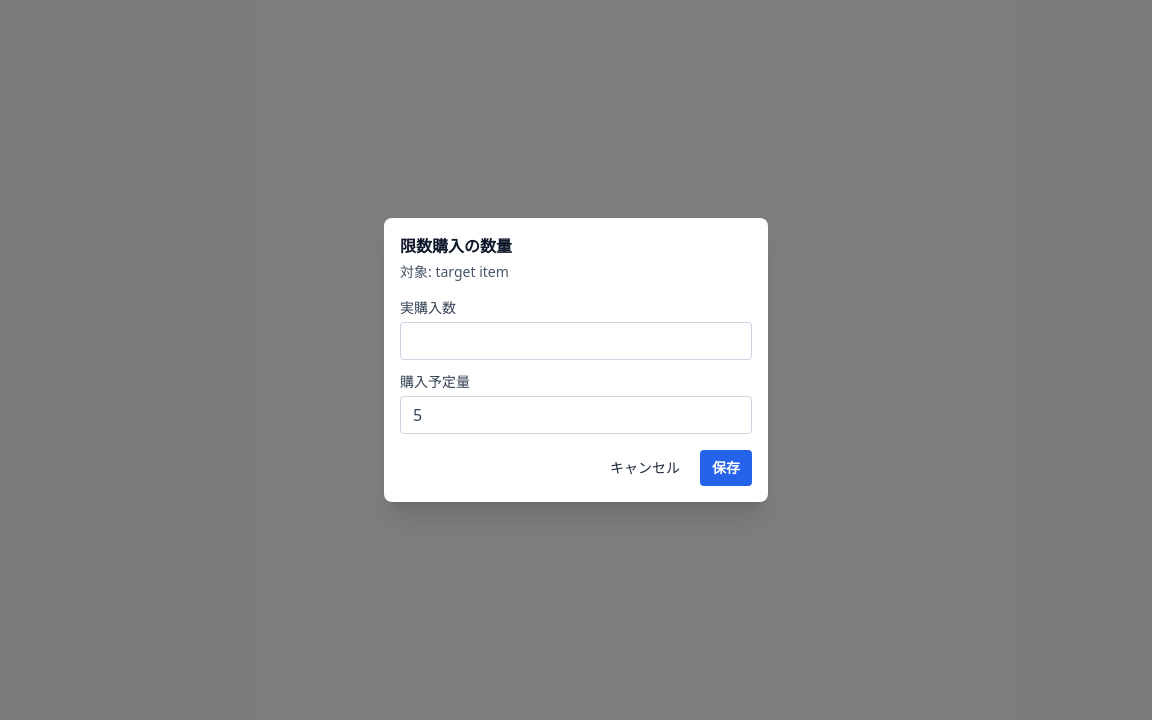
Test: LimitedPurchaseDialog › prioritizes actual quantity errors when both fields are empty
Clear the field labelled "実購入数" at coordinates (576, 341), box x1=400 y1=322 x2=752 y2=360
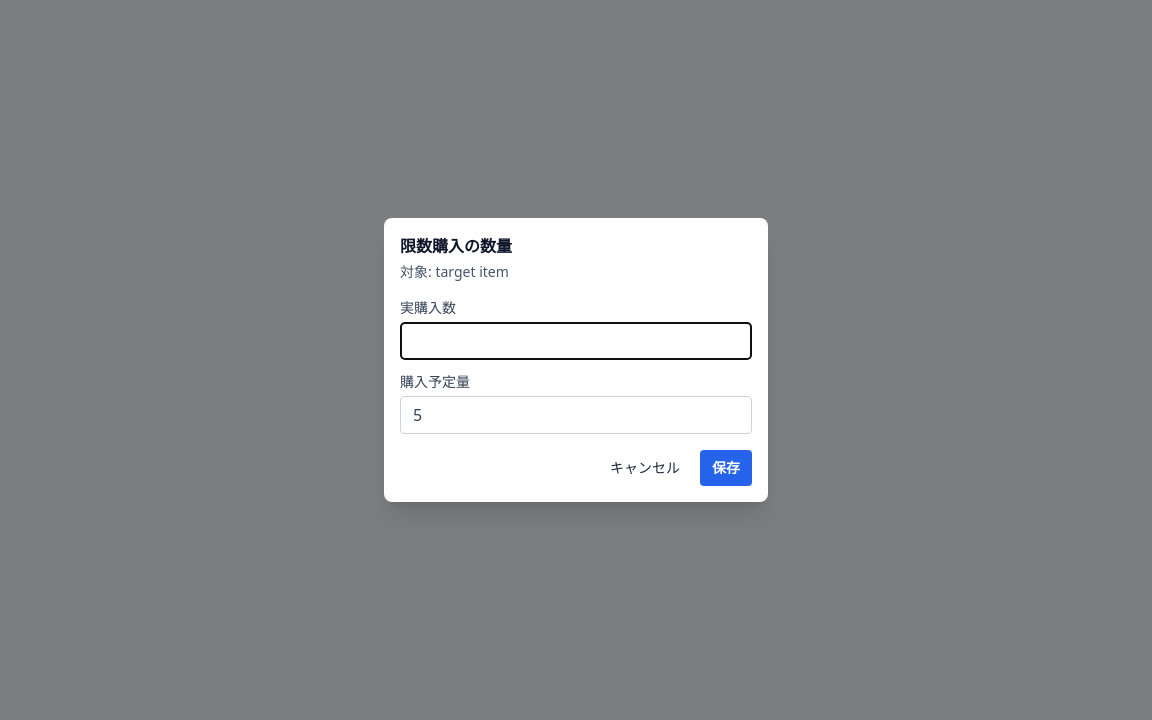
Clear the field labelled "購入予定量" at coordinates (576, 415), box x1=400 y1=396 x2=752 y2=434
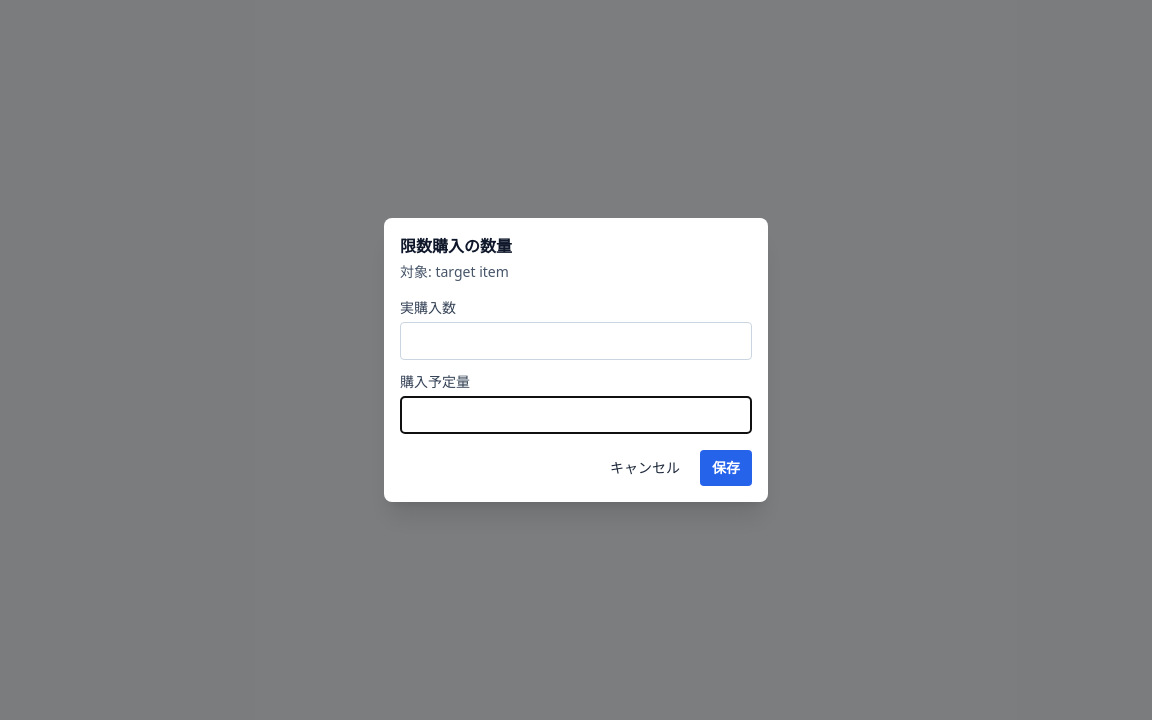
Click the button "保存".
click(726, 468)  # box x1=700 y1=450 x2=752 y2=486
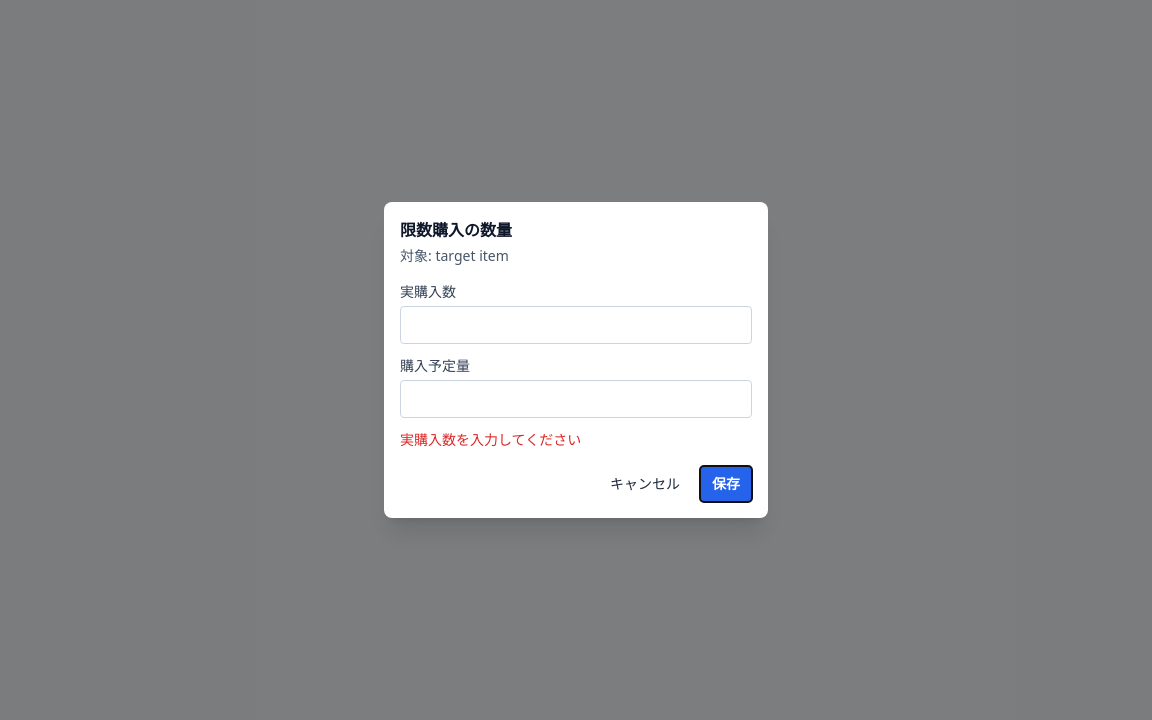
Now the text "実購入数を入力してください" is shown, box x1=400 y1=430 x2=581 y2=449
